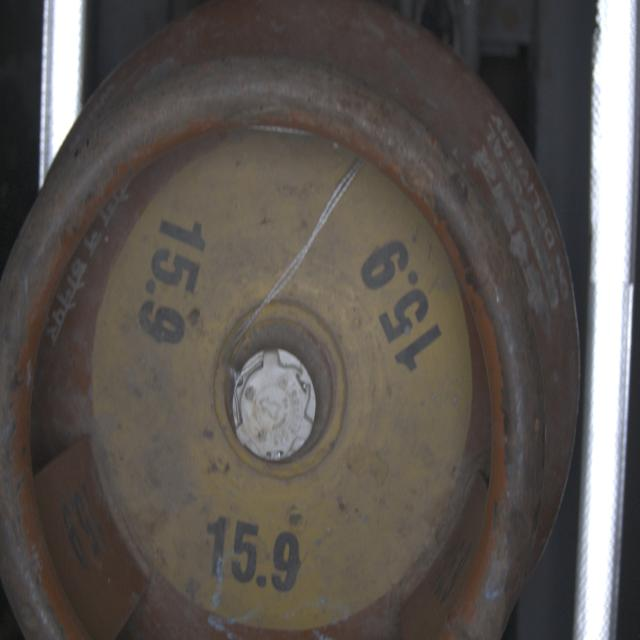Cap: (232, 344, 320, 465)
